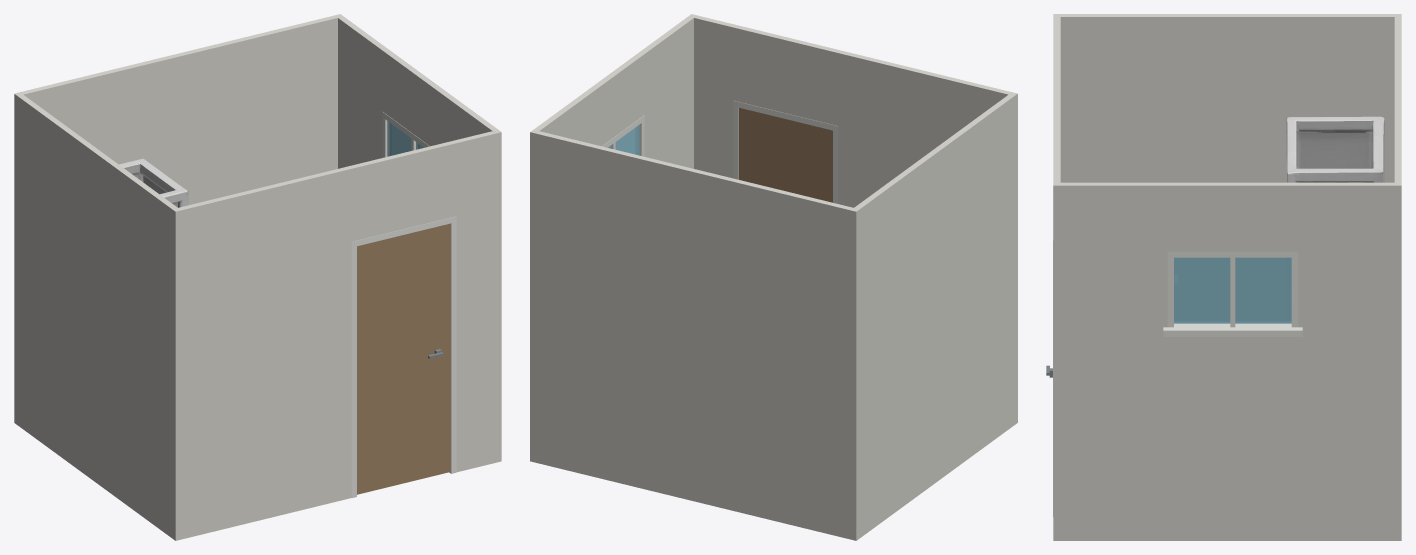
File: scenesmith.glb
The picture shows the model from 3 angles, left to right: view 1: azimuth 30°, elevation 25°; view 2: azimuth 150°, elevation 25°; view 3: azimuth 270°, elevation 25°; orthographic projection. The views are drawn at different scales.
Visible parts, largest first — view 1: scene_166_bathroom_south_wall, scene_166_bathroom_west_wall, scene_166_bathroom_north_wall, scene_166_bathroom_south_wall Door 0 | wood leaf, scene_166_bathroom_east_wall, scene_166_bathroom_south_wall Door 0 | jamb, furniture_group, scene_166_bathroom_east_wall Window 0 | glazing, scene_166_bathroom_east_wall Window 0 | jamb; view 2: scene_166_bathroom_north_wall, scene_166_bathroom_west_wall, scene_166_bathroom_south_wall, scene_166_bathroom_east_wall, scene_166_bathroom_south_wall Door 0 | wood leaf, scene_166_bathroom_south_wall Door 0 | jamb; view 3: scene_166_bathroom_east_wall, scene_166_bathroom_west_wall, scene_166_bathroom_east_wall Window 0 | glazing, furniture_group, scene_166_bathroom_east_wall Window 0 | jamb, scene_166_bathroom_north_wall, scene_166_bathroom_south_wall.
Part boxes in pixels (x1,y1,x2,y2): scene_166_bathroom_south_wall: (172, 131, 495, 539); scene_166_bathroom_west_wall: (16, 92, 181, 540); scene_166_bathroom_north_wall: (14, 15, 337, 424); scene_166_bathroom_south_wall Door 0 | wood leaf: (357, 223, 450, 494); scene_166_bathroom_east_wall: (335, 14, 501, 462); scene_166_bathroom_south_wall Door 0 | jamb: (351, 216, 456, 497); furniture_group: (119, 158, 188, 207); scene_166_bathroom_east_wall Window 0 | glazing: (387, 121, 423, 156); scene_166_bathroom_east_wall Window 0 | jamb: (382, 111, 429, 157); scene_166_bathroom_north_wall: (536, 131, 859, 540); scene_166_bathroom_west_wall: (850, 94, 1017, 540); scene_166_bathroom_south_wall: (694, 15, 1017, 207); scene_166_bathroom_east_wall: (530, 14, 696, 462); scene_166_bathroom_south_wall Door 0 | wood leaf: (739, 107, 832, 202); scene_166_bathroom_south_wall Door 0 | jamb: (733, 100, 838, 203); scene_166_bathroom_east_wall: (1053, 182, 1401, 540); scene_166_bathroom_west_wall: (1060, 14, 1401, 182); scene_166_bathroom_east_wall Window 0 | glazing: (1174, 257, 1291, 323); furniture_group: (1286, 116, 1384, 182); scene_166_bathroom_east_wall Window 0 | jamb: (1163, 251, 1302, 336); scene_166_bathroom_north_wall: (1394, 14, 1401, 182); scene_166_bathroom_south_wall: (1053, 14, 1060, 182).
Bounding box in the file's own units: 2.85 × 2.71 × 2.45.
15 materials, 5 textured.
